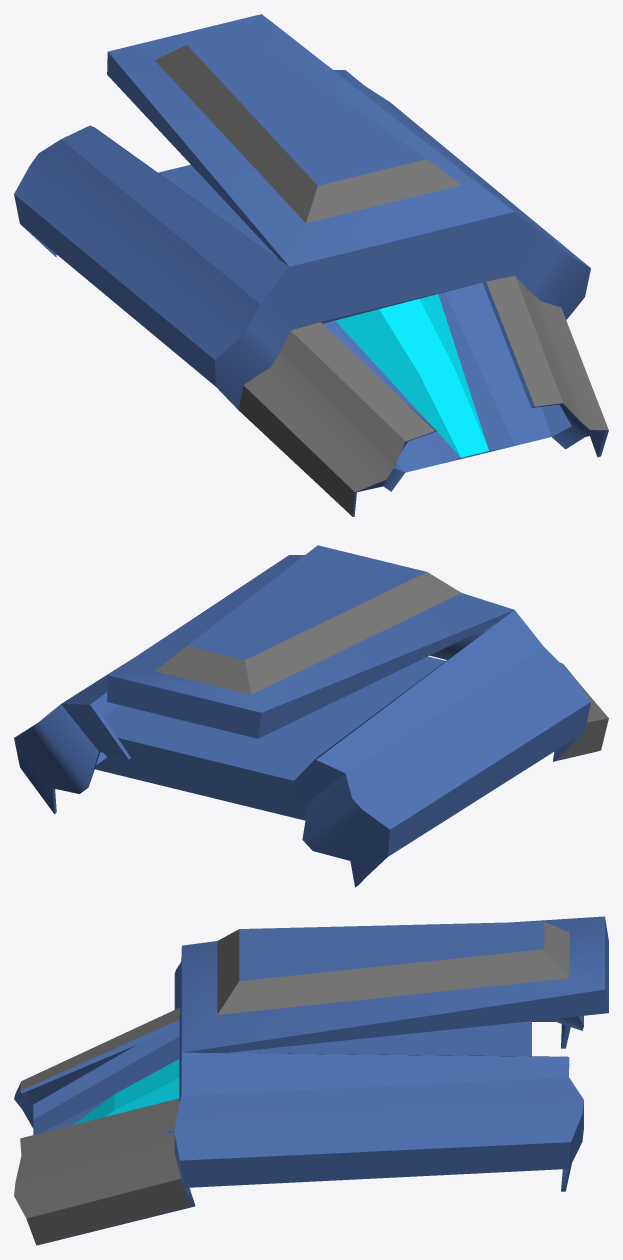
File: Kashpruk_PirateShip_Roof.fbx
The picture shows the model from 3 angles, top to bottom: view 1: azimuth 30°, elevation 25°; view 2: azimuth 150°, elevation 25°; view 3: azimuth 270°, elevation 25°; orthographic projection. The views are drawn at different scales.
Visible parts, largest first — view 1: Pirate_Ship_Roof; view 2: Pirate_Ship_Roof; view 3: Pirate_Ship_Roof.
Part boxes in pixels (box(x1,y1,x2,y2)): Pirate_Ship_Roof: box(14, 14, 608, 516); Pirate_Ship_Roof: box(14, 545, 608, 887); Pirate_Ship_Roof: box(14, 916, 608, 1245).
Size of the model in its own units: 1785 by 1175 by 2512.
